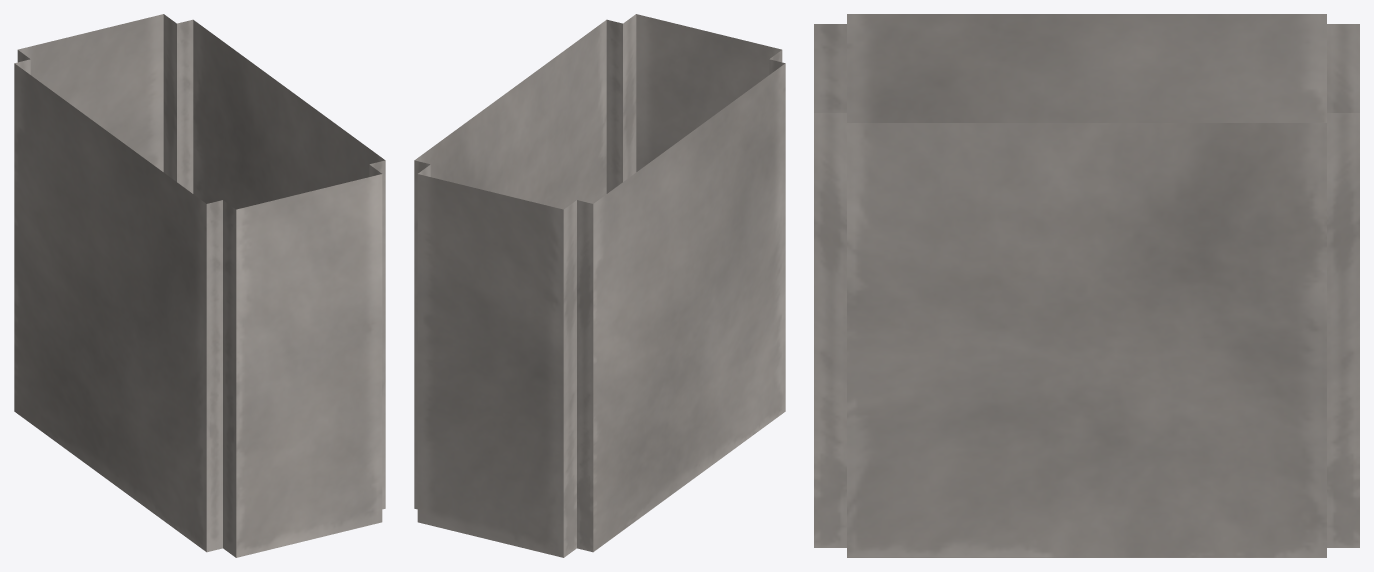
File: Post_A_1m.fbx
3 renders of one model, left to right at view 1: azimuth 30°, elevation 25°; view 2: azimuth 150°, elevation 25°; view 3: azimuth 270°, elevation 25°, orthographic. The views are drawn at different scales.
Parts seen in each view (by area): view 1: Post_A_1m; view 2: Post_A_1m; view 3: Post_A_1m.
Part boxes in pixels (box(x1,y1,x2,y2)): Post_A_1m: box(14, 14, 385, 557); Post_A_1m: box(414, 14, 785, 557); Post_A_1m: box(814, 14, 1359, 557).
Bounding box in the file's own units: 0.5372 × 1.14 × 1.
